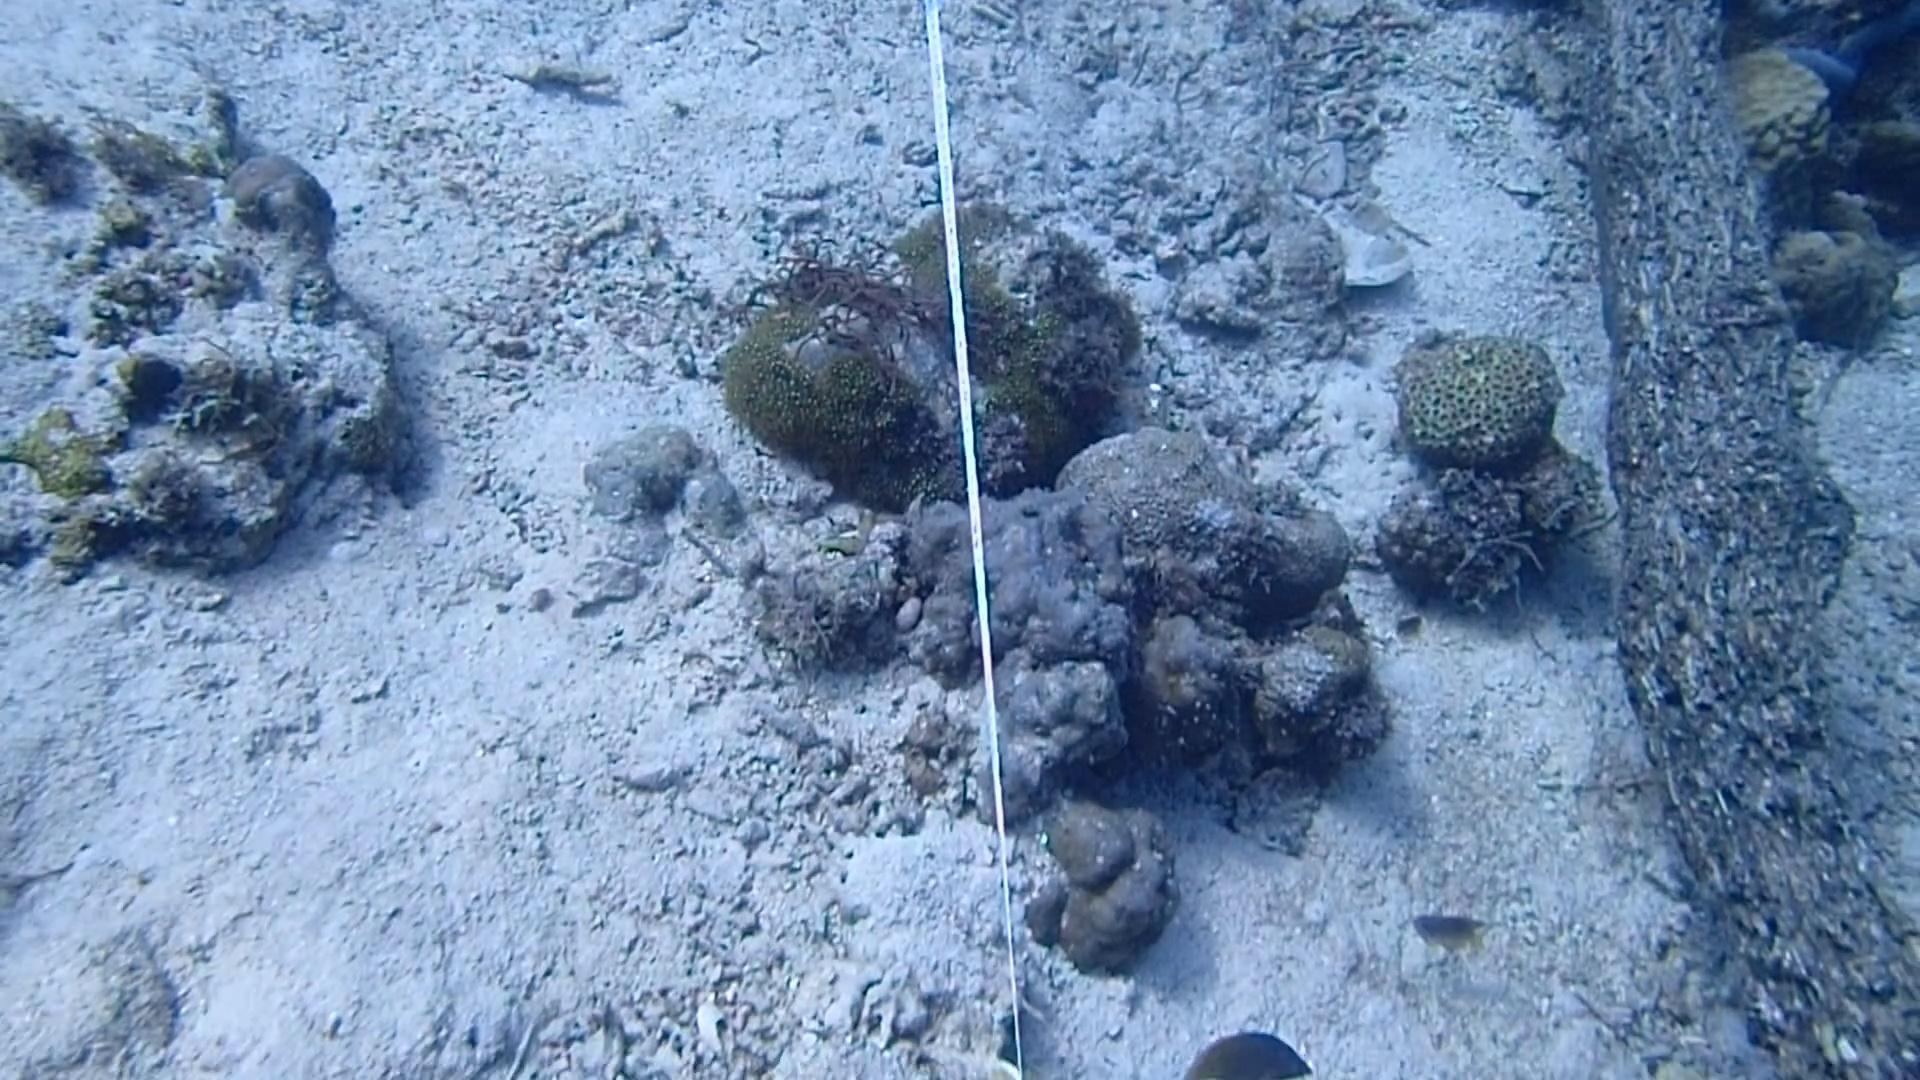Light Fish: (1386, 887, 1506, 973)
Yellow-Blue Fish: (1164, 1014, 1321, 1080)
